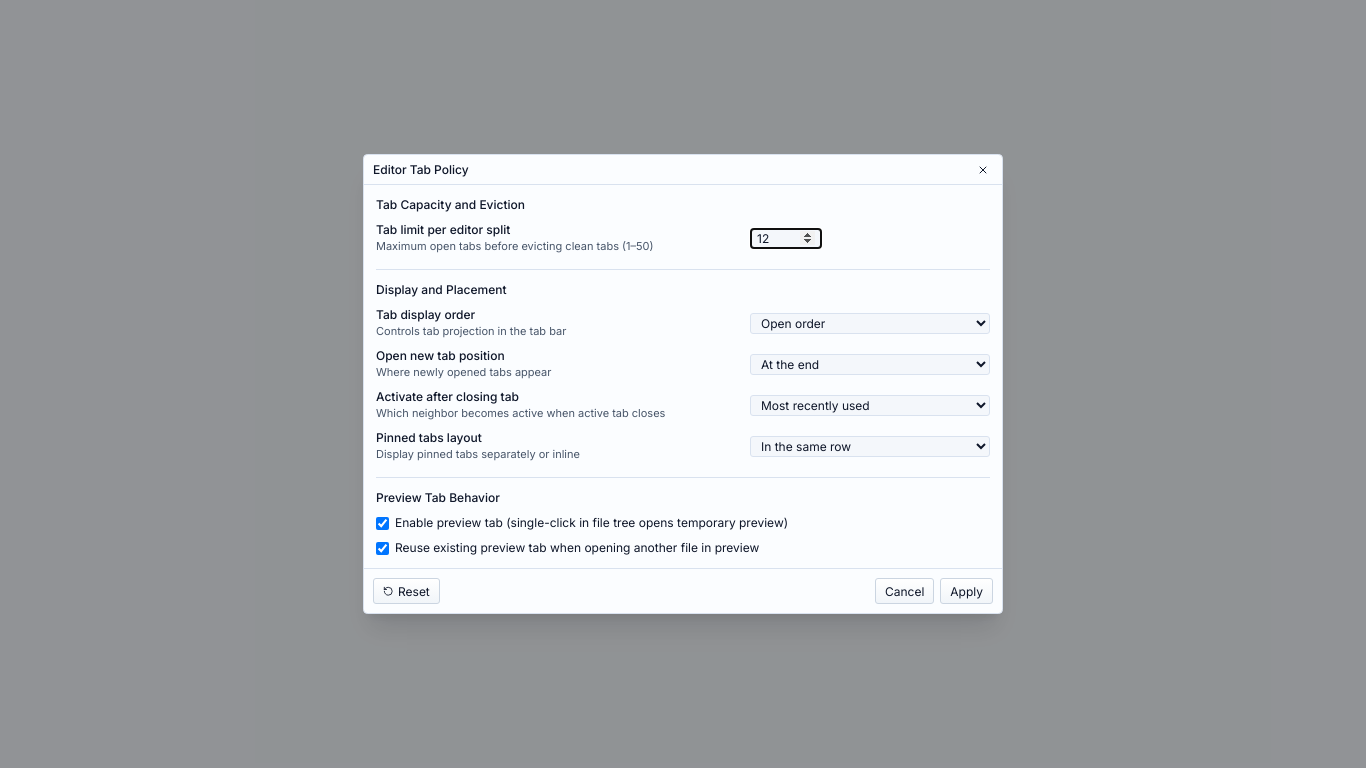
Test: WorkspaceTabPolicySettingsDialog › previews candidate evictions when limit is reduced below open tabs
Replace the text in the number field with test id "workspace-tab-policy-limit" with "1" at (786, 238), box x1=750 y1=228 x2=822 y2=248
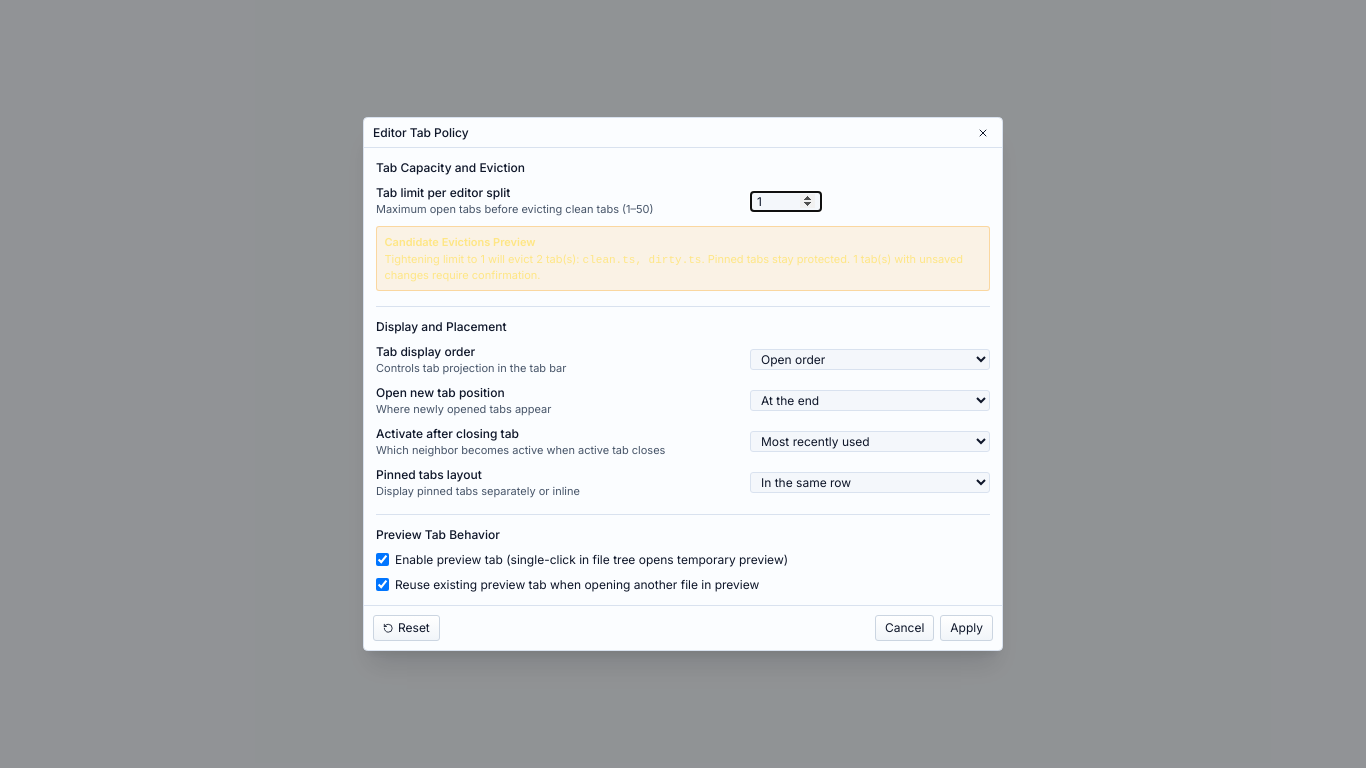
Now the element with test id "workspace-tab-policy-eviction-preview" shows "Tightening limit to 1 will evict 2 tab(s)", box x1=376 y1=226 x2=990 y2=291
Now the element with test id "workspace-tab-policy-eviction-preview" shows "clean.ts", box x1=583 y1=254 x2=701 y2=266
Now the element with test id "workspace-tab-policy-eviction-preview" shows "dirty.ts", box x1=583 y1=254 x2=701 y2=266
